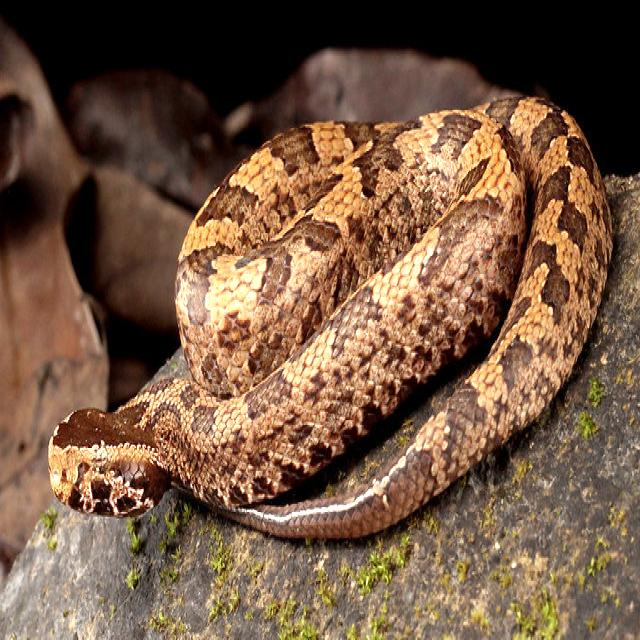Ovophis monticola: (49, 97, 611, 538)
snake: (49, 97, 611, 538)
